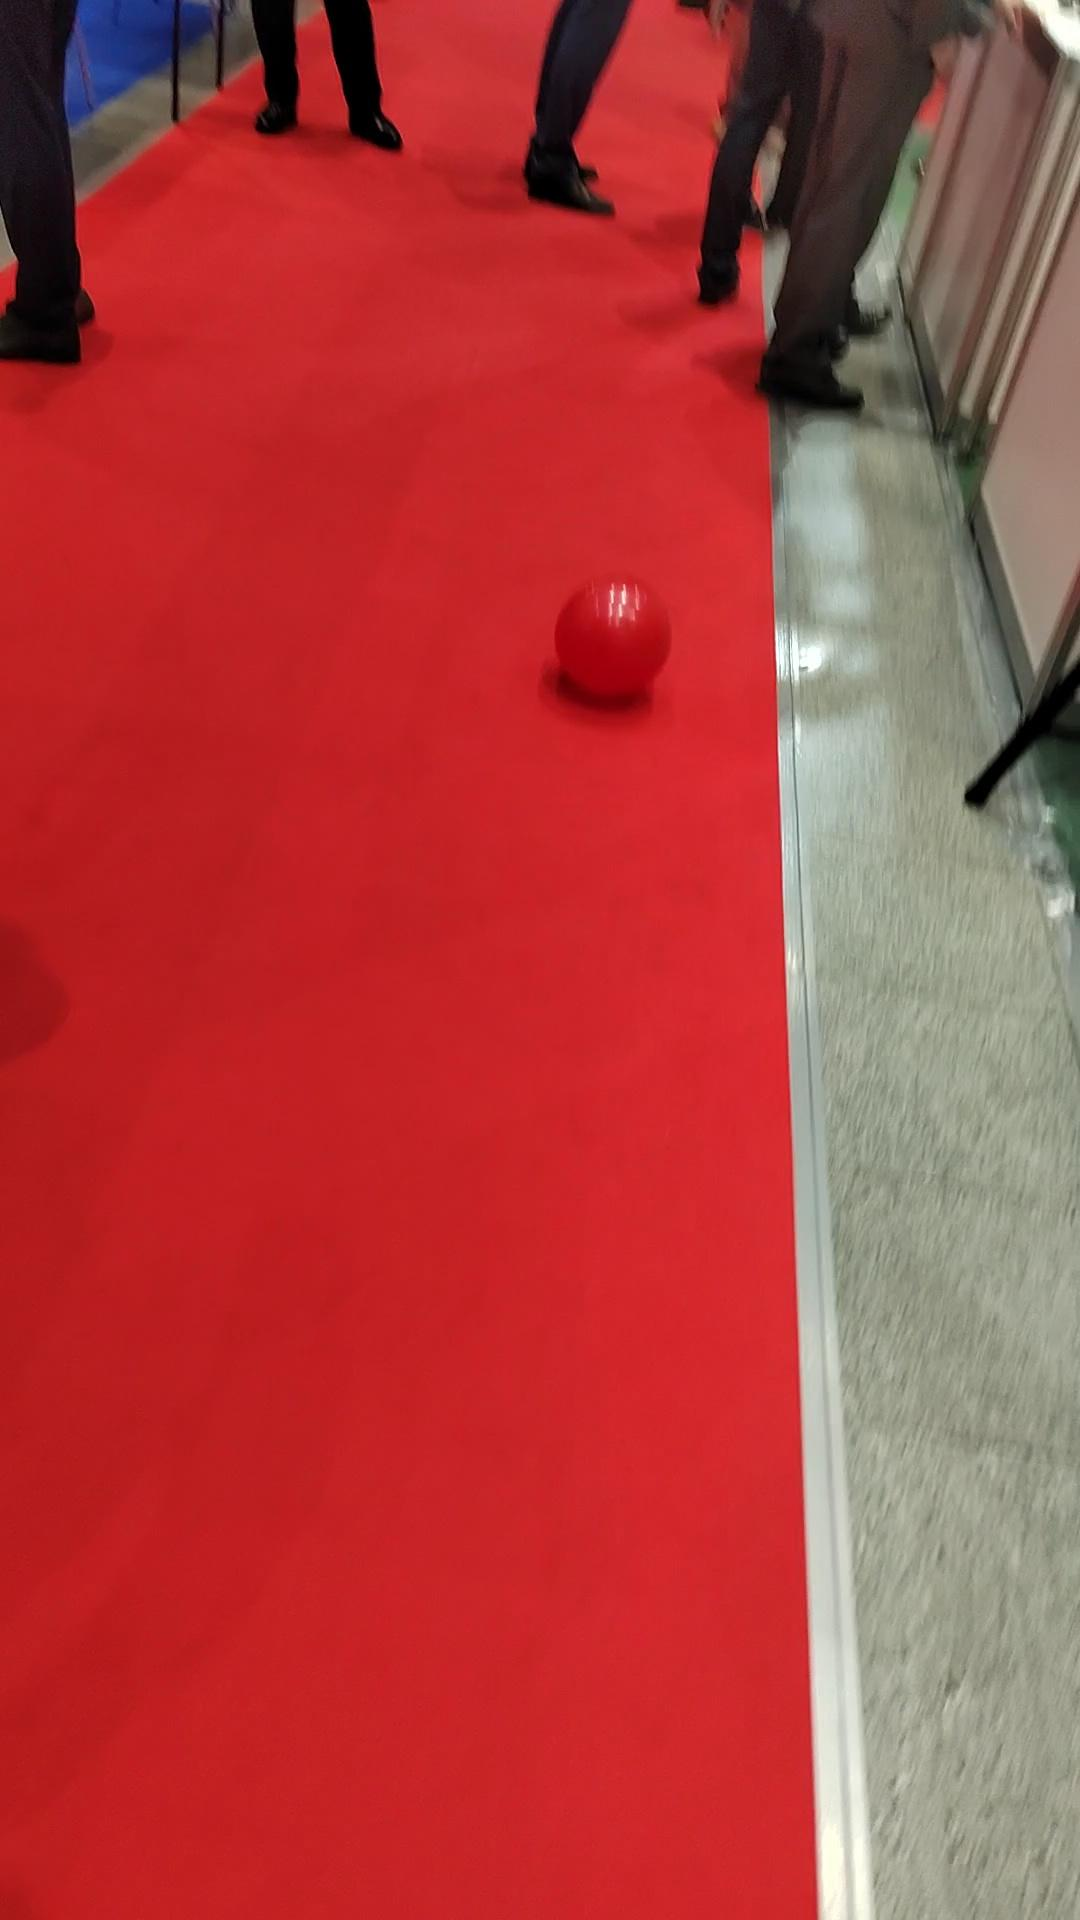red: (554, 578, 673, 703)
